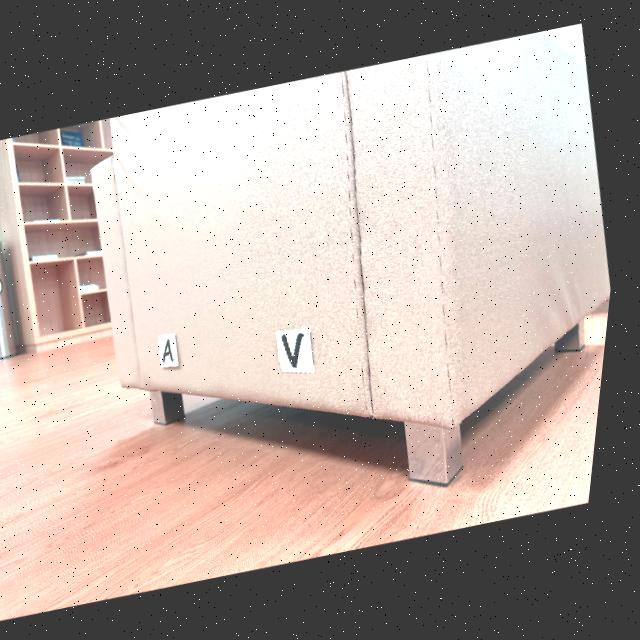A: (171, 338, 181, 362)
V: (289, 332, 310, 366)
